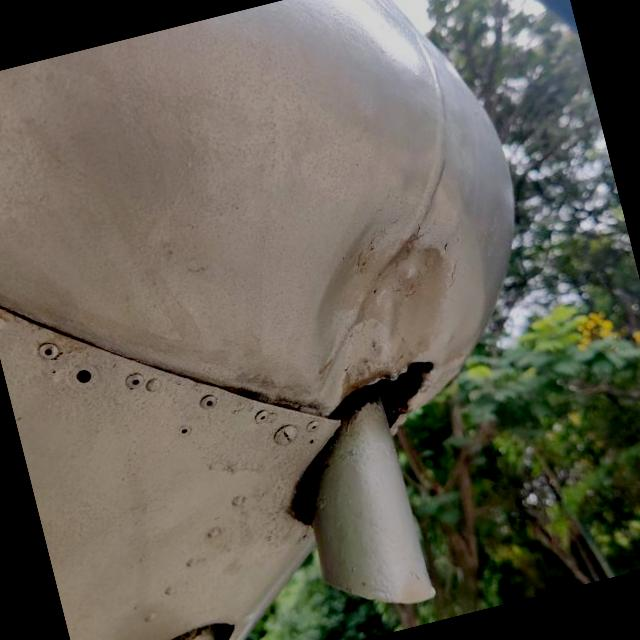dent: (260, 173, 505, 430)
